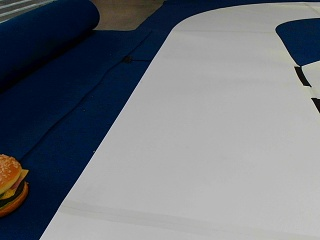burger: (0, 152, 32, 220)
